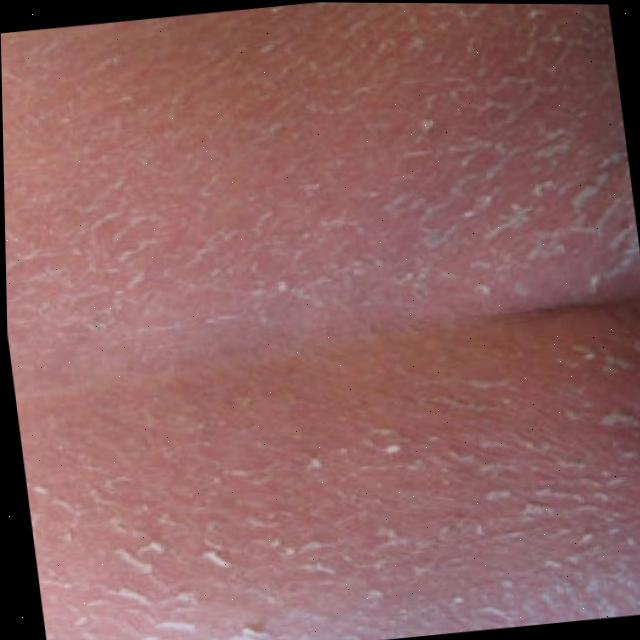Eczema: (22, 0, 640, 640)
